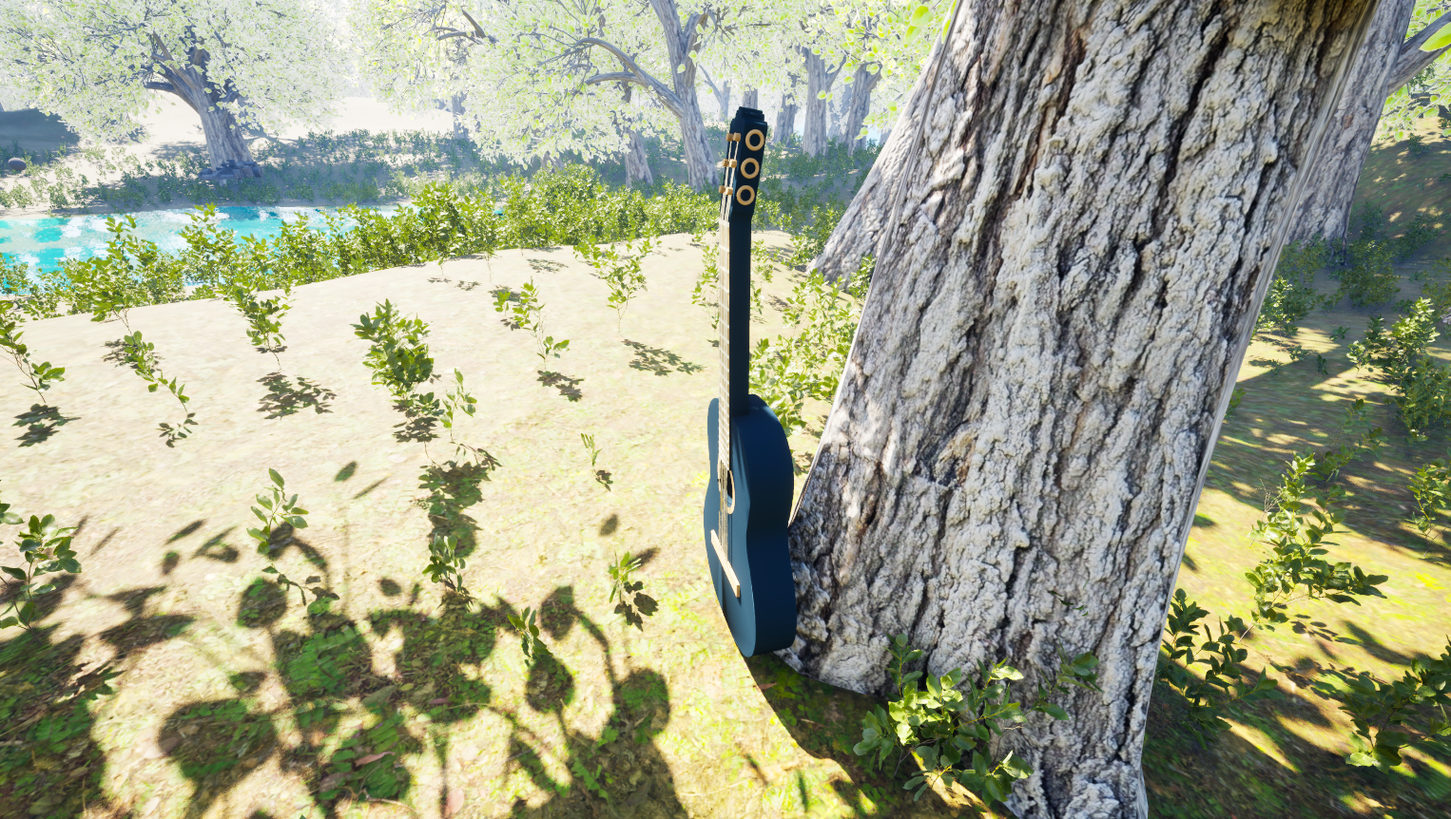Guitar: (692, 98, 828, 692)
